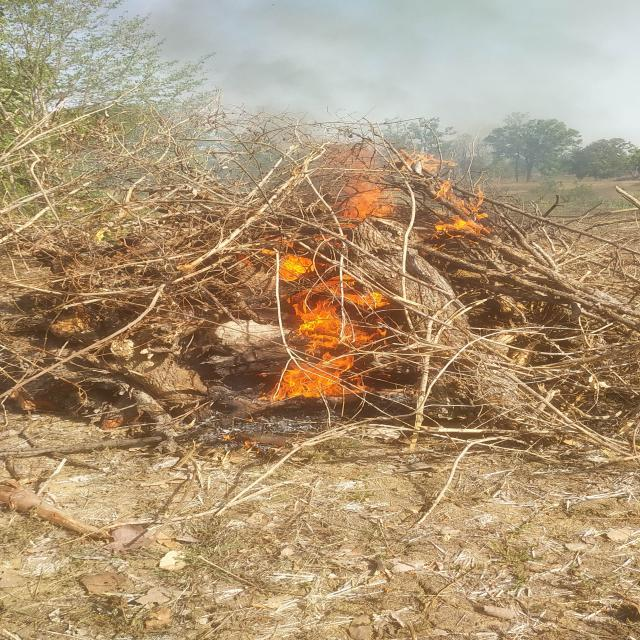Fire: (262, 245, 400, 402), (334, 170, 510, 226)
Smoke: (152, 0, 640, 127)
